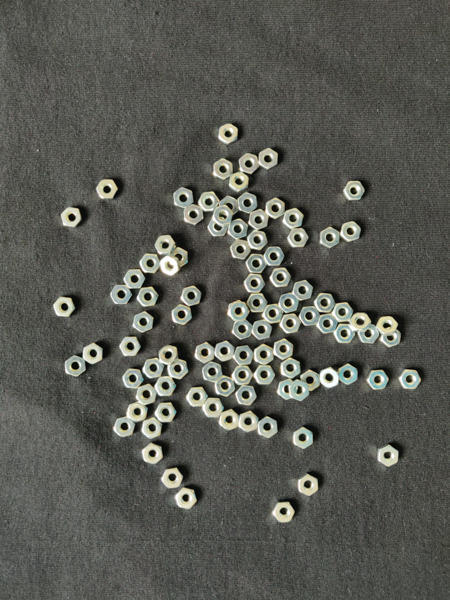nut: (174, 488, 198, 510), (377, 444, 399, 467), (272, 502, 296, 523), (155, 376, 177, 398), (65, 355, 86, 378), (316, 314, 339, 335), (298, 474, 319, 496), (293, 428, 314, 450), (142, 443, 163, 465), (141, 418, 162, 440), (114, 417, 136, 438), (289, 380, 310, 402), (215, 376, 236, 398), (254, 365, 276, 386), (160, 255, 181, 277), (239, 153, 260, 175), (186, 387, 209, 407), (154, 403, 177, 423), (122, 369, 145, 389), (110, 285, 133, 305), (343, 182, 366, 202), (127, 402, 148, 423), (136, 385, 157, 406), (143, 358, 164, 379), (273, 339, 294, 360), (195, 343, 216, 364), (281, 314, 302, 335), (293, 280, 314, 301), (133, 312, 154, 333), (61, 207, 82, 228), (341, 222, 362, 243), (162, 469, 184, 489), (220, 410, 240, 432), (167, 360, 189, 380), (159, 345, 179, 367), (399, 370, 421, 390), (339, 364, 359, 386), (320, 367, 340, 389), (301, 370, 321, 392), (278, 379, 298, 401), (231, 366, 253, 386), (215, 341, 235, 363), (83, 343, 103, 365), (314, 293, 336, 313), (262, 304, 284, 324), (54, 298, 76, 318), (137, 287, 159, 307), (96, 180, 118, 200), (320, 227, 340, 249), (283, 209, 305, 229), (198, 192, 220, 212), (219, 123, 239, 145), (376, 317, 399, 336), (239, 412, 259, 433), (203, 399, 224, 419), (236, 386, 257, 406), (203, 362, 223, 383), (120, 337, 141, 357), (381, 328, 402, 348), (333, 303, 354, 323), (279, 293, 299, 314), (270, 268, 291, 288), (140, 254, 161, 274), (230, 240, 251, 260), (266, 199, 286, 220), (228, 219, 248, 240), (249, 210, 269, 231), (238, 193, 258, 214), (213, 205, 233, 226), (184, 205, 204, 226), (174, 188, 194, 209), (229, 172, 250, 192), (214, 159, 234, 180), (259, 417, 278, 439), (367, 371, 389, 390), (233, 346, 255, 365), (358, 325, 380, 344), (350, 313, 372, 332), (299, 307, 321, 326), (228, 303, 250, 322), (246, 255, 268, 274), (124, 270, 146, 289), (208, 218, 230, 237), (253, 320, 273, 340), (172, 305, 192, 325), (247, 231, 267, 251), (219, 197, 239, 217), (334, 324, 355, 343), (233, 320, 252, 341), (264, 247, 285, 266), (181, 287, 202, 306), (155, 236, 176, 255), (288, 229, 309, 248), (259, 149, 278, 170), (282, 359, 301, 379), (255, 345, 274, 365), (247, 294, 268, 312), (244, 275, 265, 293), (171, 248, 188, 267)
